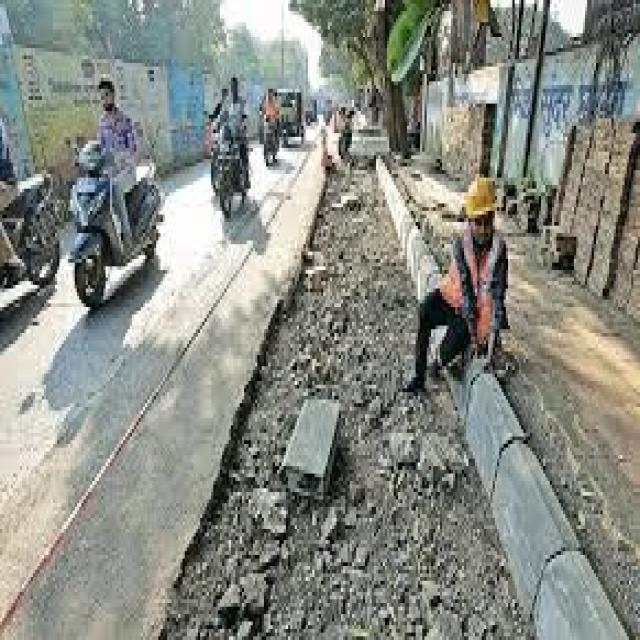motorcycle ahead at: (63, 76, 166, 312), (206, 73, 254, 221)
person ahead at: (406, 174, 514, 395)
